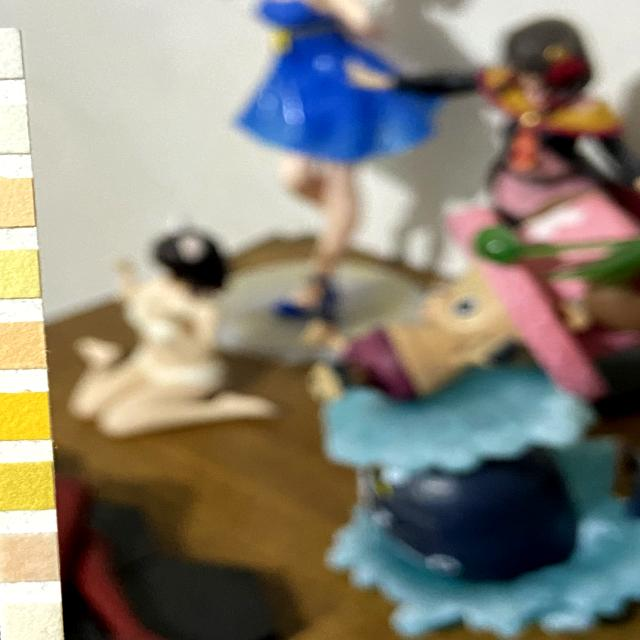Bilirubin: (3, 603, 62, 640)
Blood: (0, 393, 50, 440)
Ketone: (0, 532, 59, 581)
Leukocytes: (0, 31, 22, 78)
Nitrite: (0, 105, 26, 152)
Protein: (0, 252, 38, 297)
SpGravity: (0, 463, 55, 509)
Urobilinogen: (0, 180, 32, 227)
pH: (0, 322, 44, 369)
